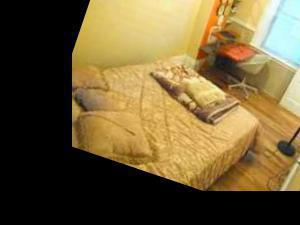Puerta: (275, 0, 300, 136)
